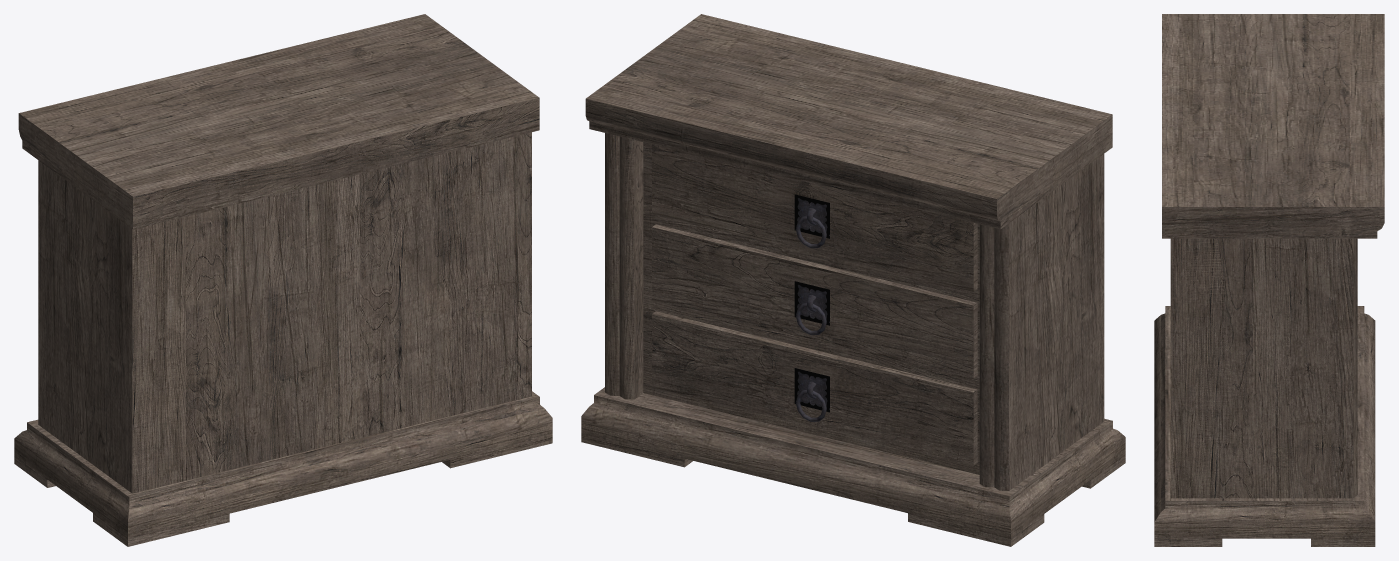
File: mw_wardrobe_03.FBX
The picture shows the model from 3 angles, left to right: view 1: azimuth 30°, elevation 25°; view 2: azimuth 150°, elevation 25°; view 3: azimuth 270°, elevation 25°; orthographic projection. The views are drawn at different scales.
Visible parts, largest first — view 1: mw_wardrobe_03; view 2: mw_wardrobe_03; view 3: mw_wardrobe_03.
Boxes of the visible parts, x1=… form: mw_wardrobe_03: x1=14, y1=14, x2=552, y2=546; mw_wardrobe_03: x1=581, y1=14, x2=1125, y2=546; mw_wardrobe_03: x1=1154, y1=14, x2=1384, y2=546.
Size of the model in its own units: 151 by 117 by 72.69.
